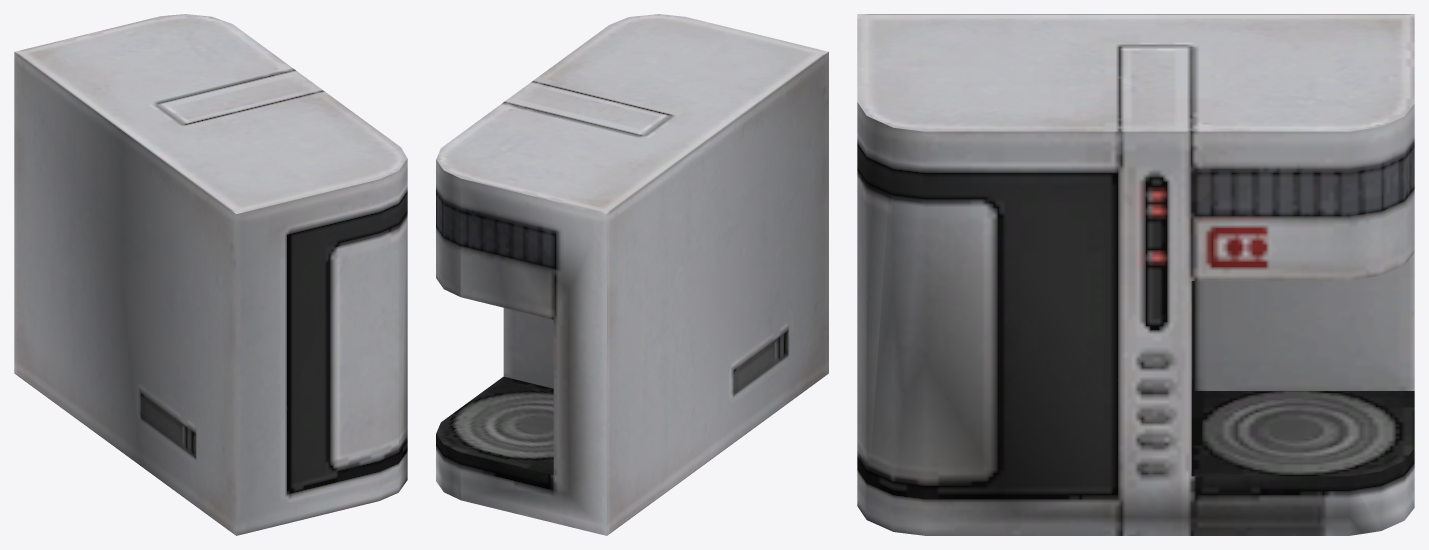
Rendered from CoffeeMaker01.FBX.
The picture shows the model from 3 angles, left to right: view 1: azimuth 30°, elevation 25°; view 2: azimuth 150°, elevation 25°; view 3: azimuth 270°, elevation 25°; orthographic projection. The views are drawn at different scales.
Visible parts, largest first — view 1: CoffeeMaker01; view 2: CoffeeMaker01; view 3: CoffeeMaker01.
Part boxes in pixels (left/top/right/bottom): CoffeeMaker01: left=14, top=14, right=407, bottom=535; CoffeeMaker01: left=436, top=14, right=828, bottom=535; CoffeeMaker01: left=857, top=14, right=1414, bottom=535.
Bounding box in the file's own units: 0.25 × 0.4 × 0.5.
